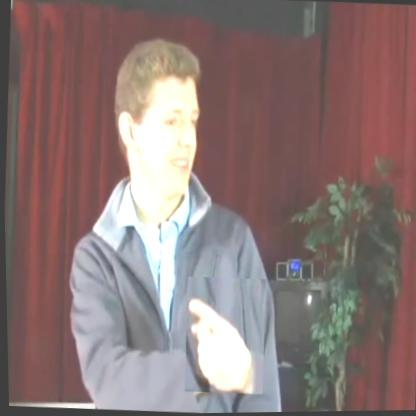NiceToMeetYou: (180, 275, 266, 395)
